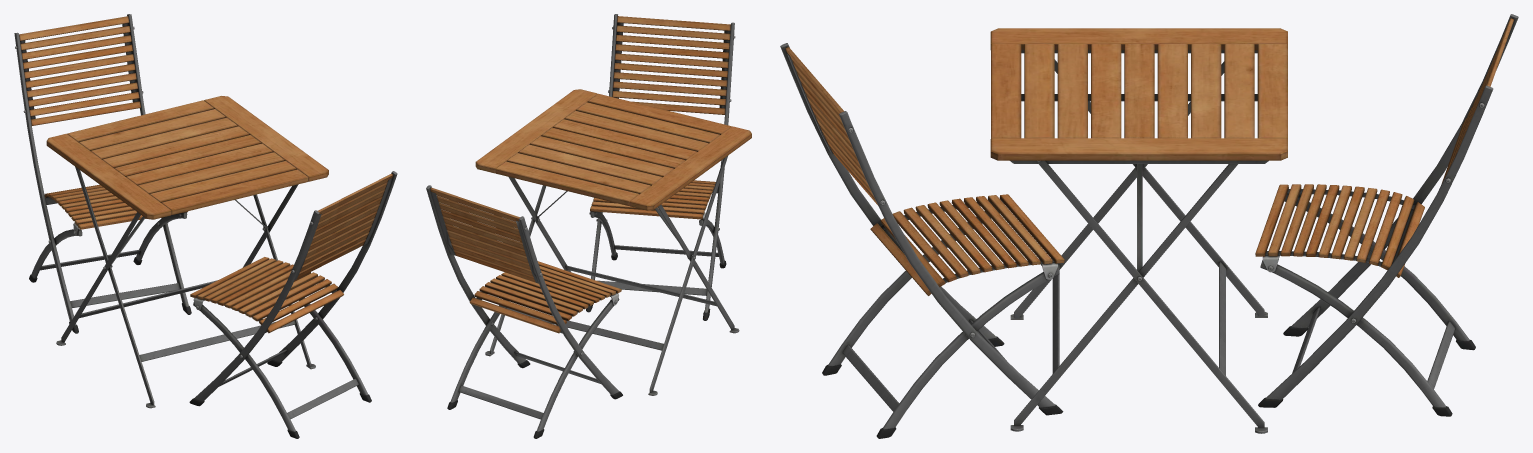
File: outdoor_table_chair_set_01.glb
3 views of the same model, side by side, from view 1: azimuth 30°, elevation 25°; view 2: azimuth 150°, elevation 25°; view 3: azimuth 270°, elevation 25° (orthographic). The views are drawn at different scales.
Parts seen in each view (by area): view 1: outdoor_table_chair_set_01_chair_01, outdoor_table_chair_set_01_table; view 2: outdoor_table_chair_set_01_chair_01, outdoor_table_chair_set_01_table; view 3: outdoor_table_chair_set_01_table, outdoor_table_chair_set_01_chair_01.
Part boxes in pixels (left/top/right/bottom): outdoor_table_chair_set_01_chair_01: left=14, top=14, right=397, bottom=438; outdoor_table_chair_set_01_table: left=46, top=96, right=328, bottom=408; outdoor_table_chair_set_01_chair_01: left=426, top=14, right=735, bottom=438; outdoor_table_chair_set_01_table: left=475, top=89, right=751, bottom=395; outdoor_table_chair_set_01_table: left=990, top=28, right=1287, bottom=433; outdoor_table_chair_set_01_chair_01: left=780, top=14, right=1518, bottom=438.
Bounding box in the file's own units: 0.7417 × 0.8583 × 1.72.
2 materials, 2 textured.
